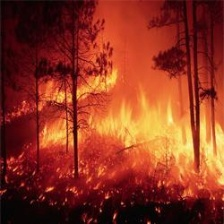fire: (42, 81, 224, 204)
